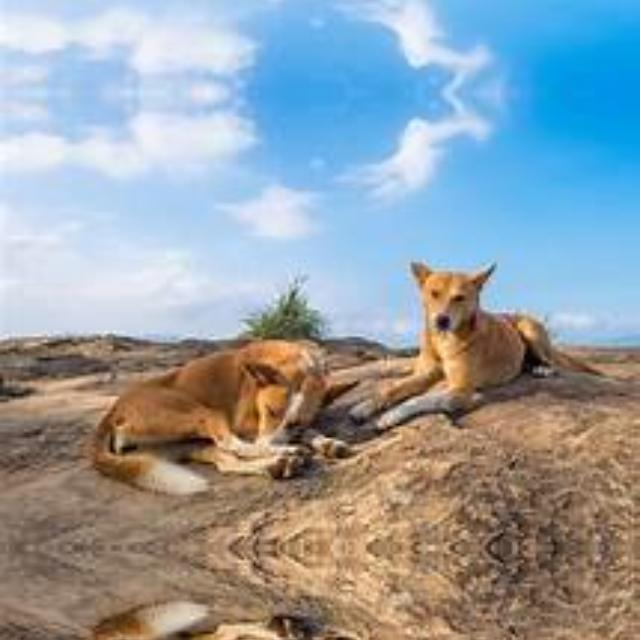dog: (407, 255, 567, 391)
